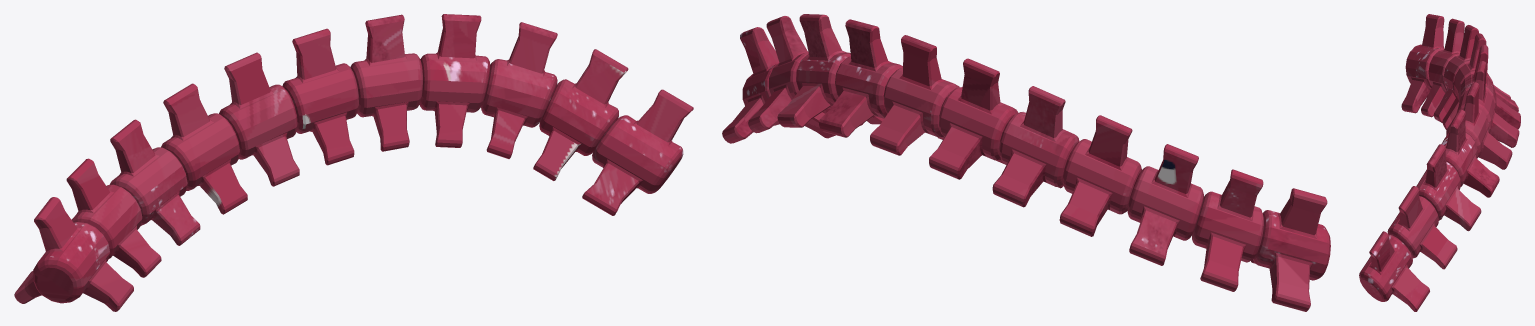
The model's file is WhaleSpineTextured.fbx.
The picture shows the model from 3 angles, left to right: view 1: azimuth 30°, elevation 25°; view 2: azimuth 150°, elevation 25°; view 3: azimuth 270°, elevation 25°; orthographic projection. The views are drawn at different scales.
Visible parts, largest first — view 1: Spine; view 2: Spine; view 3: Spine.
Boxes of the visible parts, box(x1,y1,x2,y2) form: Spine: box(14, 14, 693, 311); Spine: box(722, 14, 1330, 311); Spine: box(1359, 14, 1520, 311).
Size of the model in its own units: 2755 by 790 by 816.
